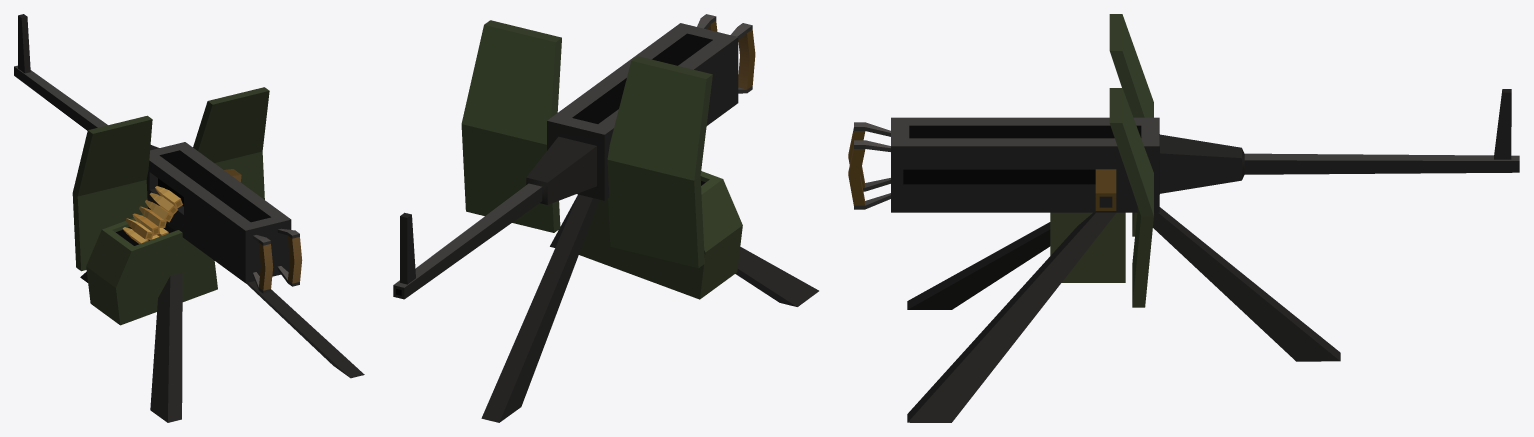
File: Wep_Turret.fbx
The picture shows the model from 3 angles, left to right: view 1: azimuth 30°, elevation 25°; view 2: azimuth 150°, elevation 25°; view 3: azimuth 270°, elevation 25°; orthographic projection. The views are drawn at different scales.
Parts seen in each view (by area): view 1: Wep_Turret; view 2: Wep_Turret; view 3: Wep_Turret.
Boxes of the visible parts, x1,y1,x2,y2 form: Wep_Turret: (14, 14, 364, 422); Wep_Turret: (393, 14, 818, 422); Wep_Turret: (848, 14, 1519, 422).
Size of the model in its own units: 212 by 235 by 493.
